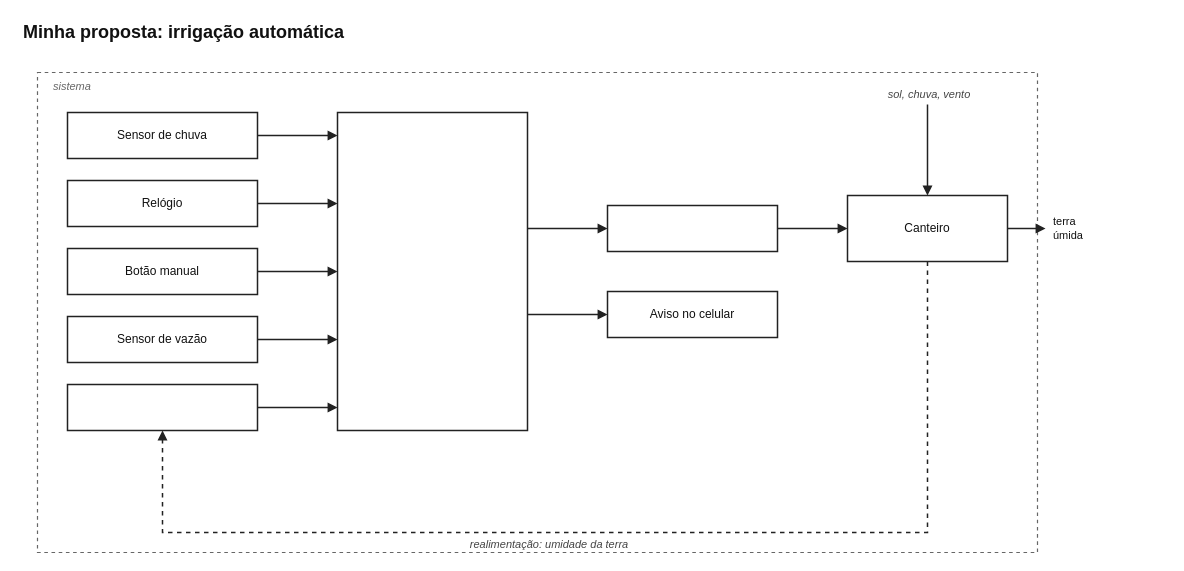
Some shapes in this 1184 by 571 pixel diagram are drawn without their labels. The shapes that lost their labels are listed below. From the top down, each one's centre as x and y in pixels, then its label:
At pixel 692 228: "Válvula de água".
At pixel 432 271: "Controlador da irrigação".
At pixel 162 407: "Sensor de umidade".
